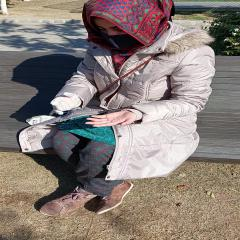gloved: (52, 94, 85, 115)
not-gloved: (85, 110, 131, 126)
